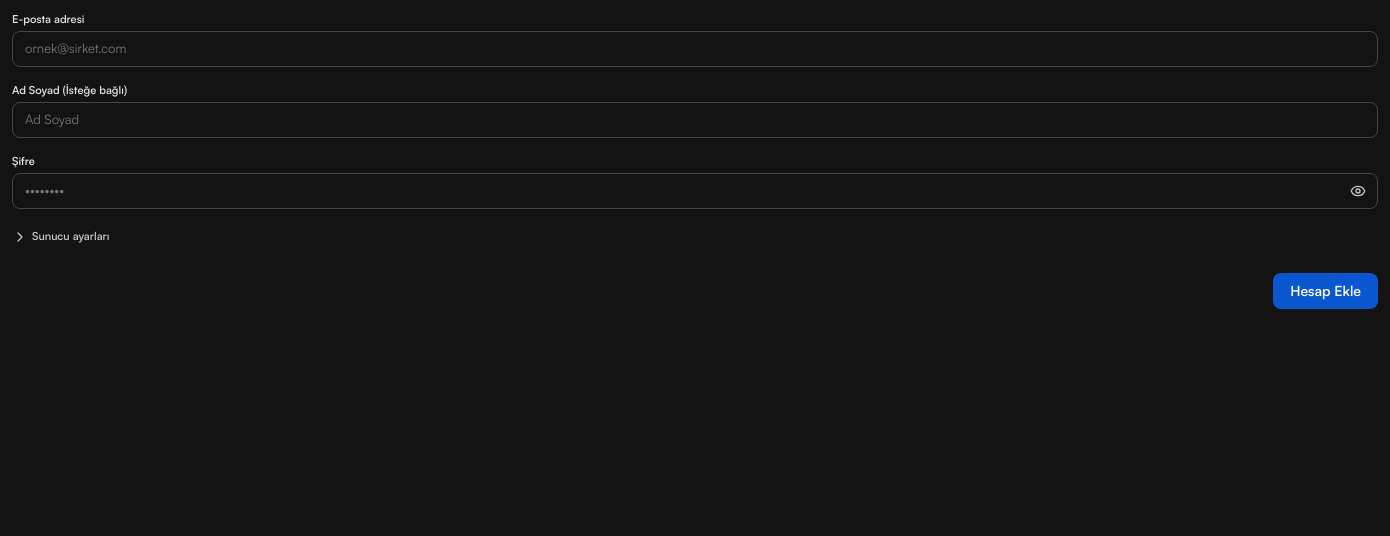
Scenario: Shared Account Setup Form (Parity Fix) › 3 & 4. renders all IMAP and SMTP configuration fields when expanded
Click the button "Sunucu ayarları": point(61, 237) [12,225,109,249]
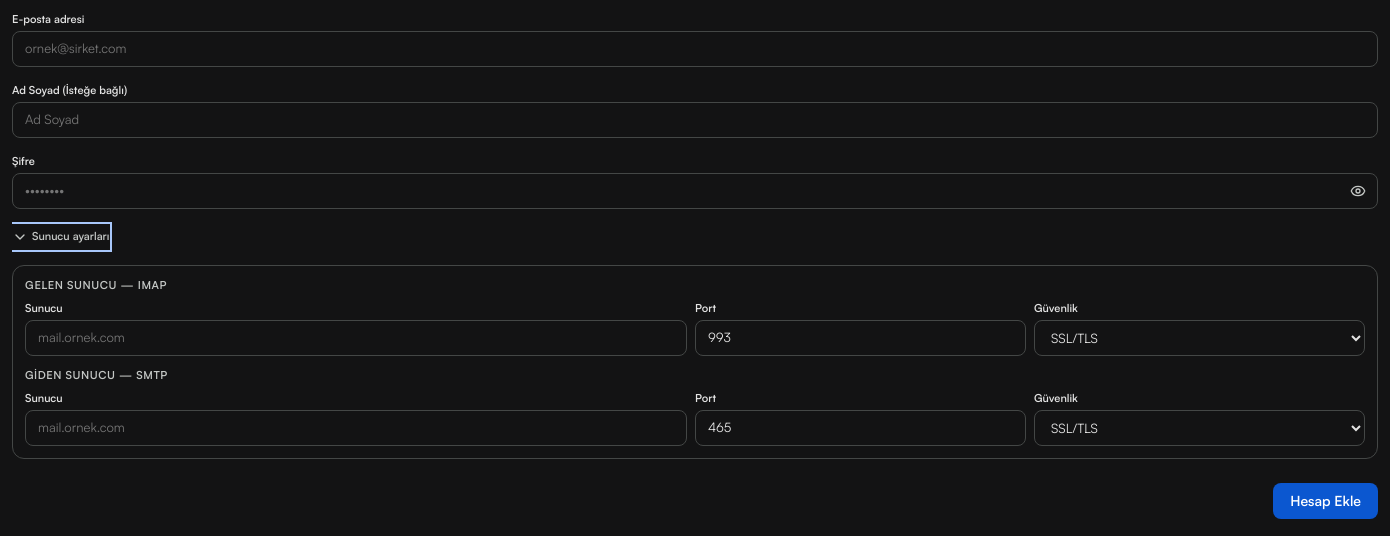
Expected: the field with id "add-account-imap-host" is shown, [25,320,687,356]
Expected: the number field with id "add-account-imap-port" is shown, [695,320,1026,356]
Expected: the dropdown with id "add-account-imap-security" is shown, [1034,320,1365,356]
